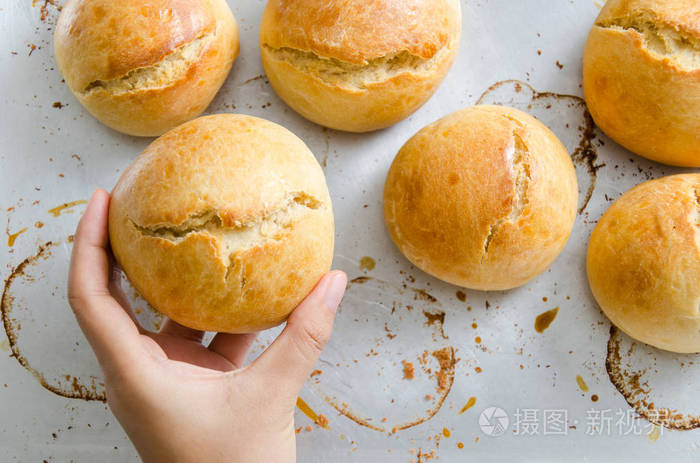no-phone: (64, 117, 351, 459)
